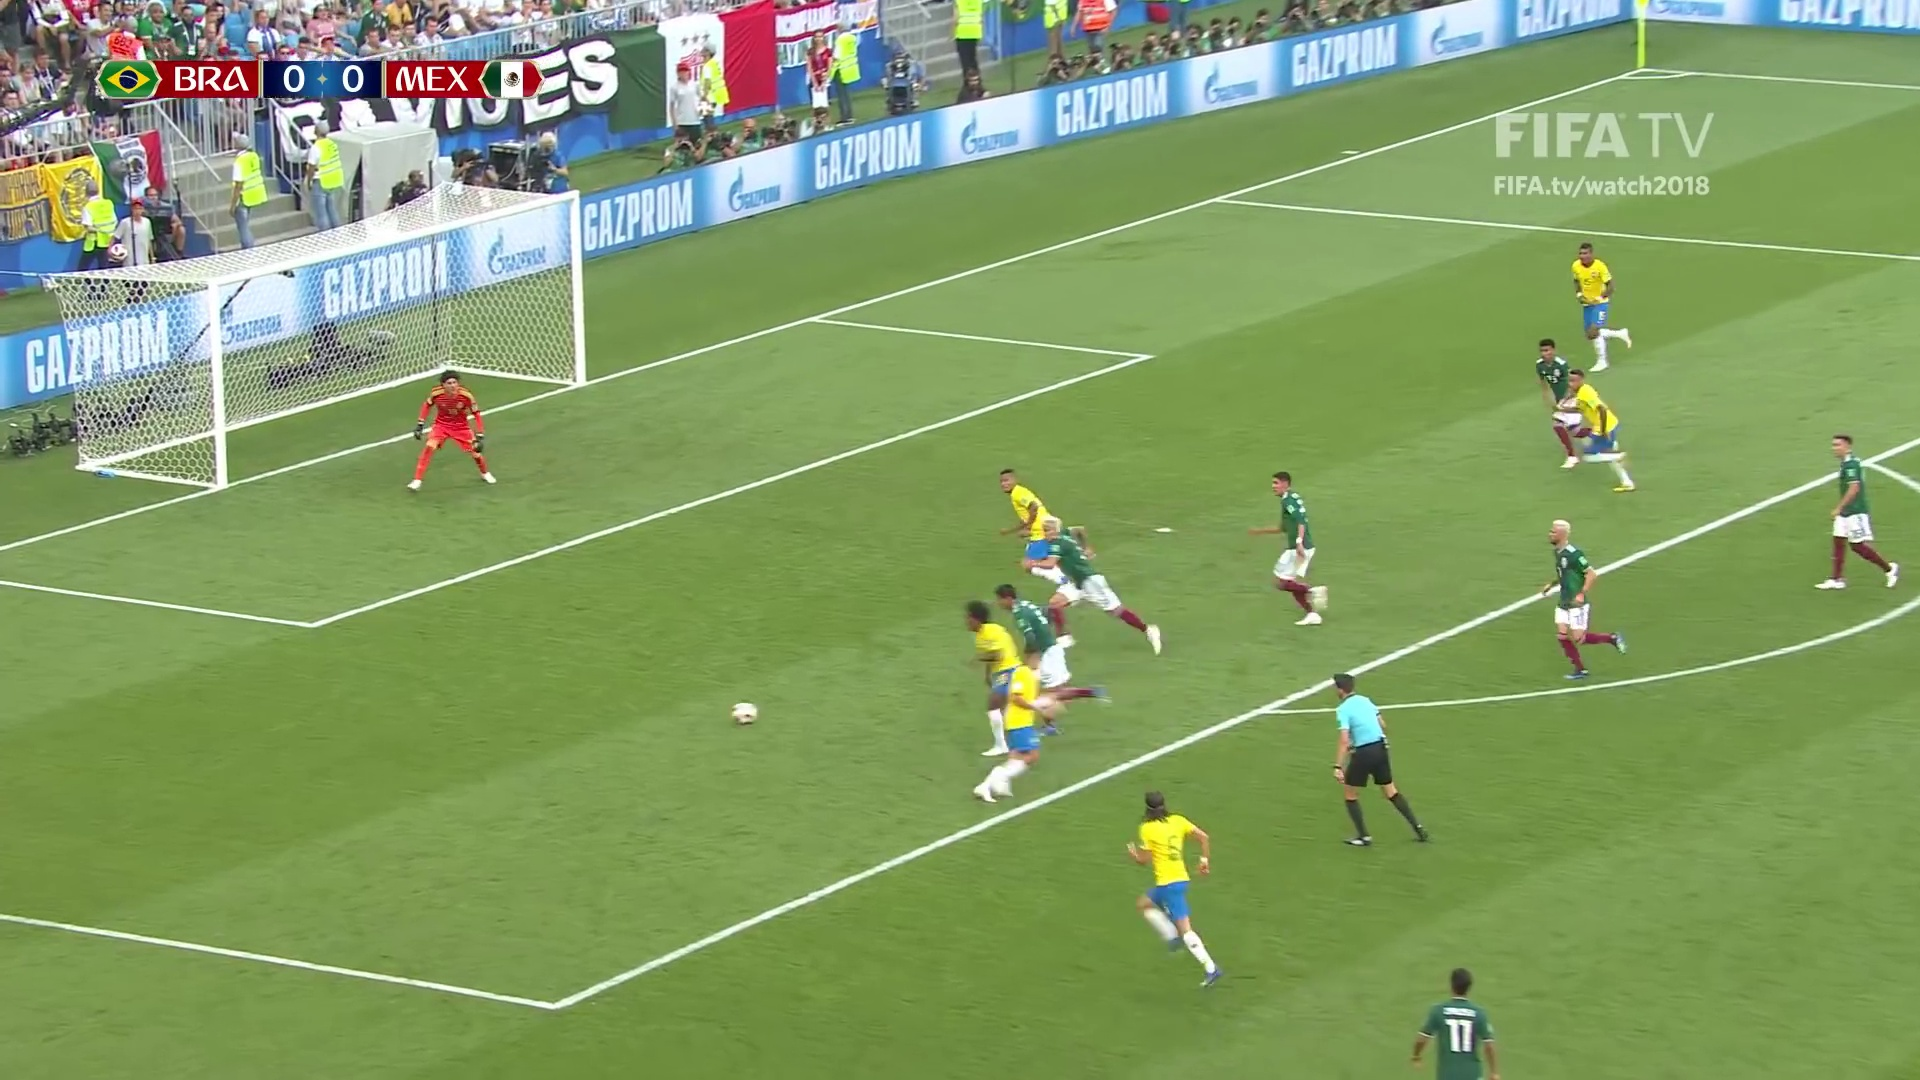ball: (732, 703, 760, 725)
person: (1130, 792, 1223, 985), (1036, 519, 1165, 655), (1545, 517, 1624, 679), (1824, 434, 1896, 589), (998, 580, 1083, 702), (1409, 967, 1496, 1080), (1267, 472, 1329, 627), (414, 371, 493, 485), (966, 605, 1026, 753), (1568, 242, 1632, 371), (987, 642, 1036, 805), (1568, 374, 1635, 492), (1001, 470, 1054, 556), (1534, 338, 1576, 409)
